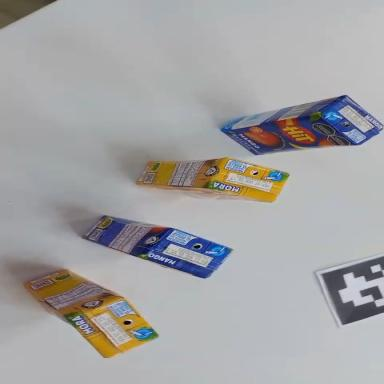HIT-MANGO: (82, 201, 233, 286), (219, 92, 384, 158)
HIT-MORA: (22, 241, 161, 378), (135, 153, 290, 203)
cara_F: (221, 111, 358, 160)
